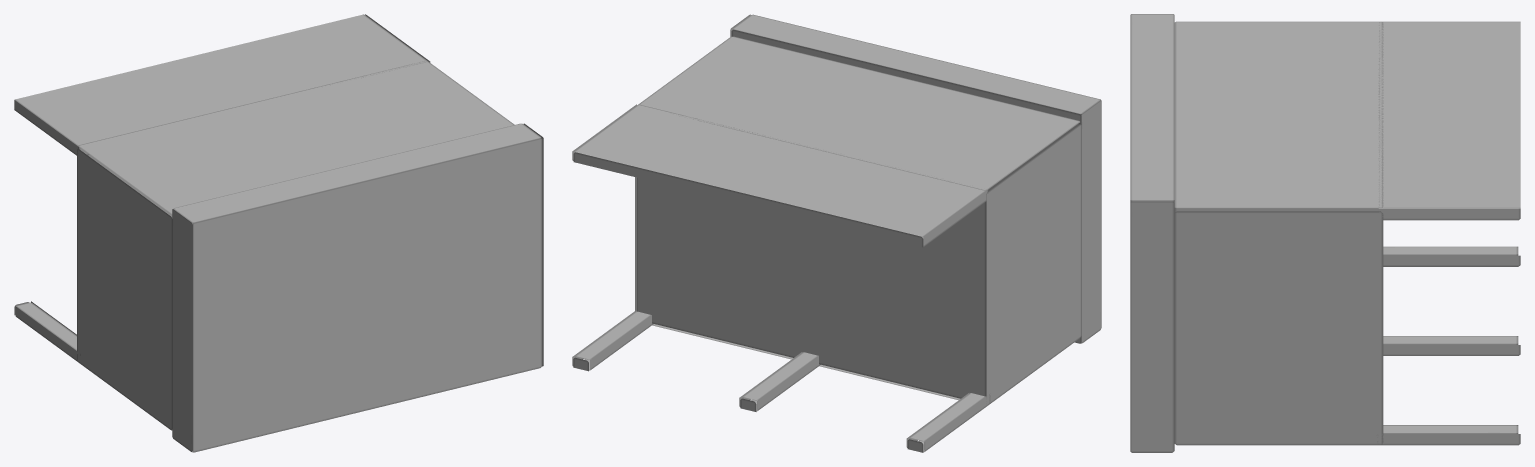
Rendered from pz_counter_steel_floor.obj.
The picture shows the model from 3 angles, left to right: view 1: azimuth 30°, elevation 25°; view 2: azimuth 150°, elevation 25°; view 3: azimuth 270°, elevation 25°; orthographic projection. The views are drawn at different scales.
Bounding box in the file's own units: 1 × 0.625 × 0.88.
1 material, 1 textured.
